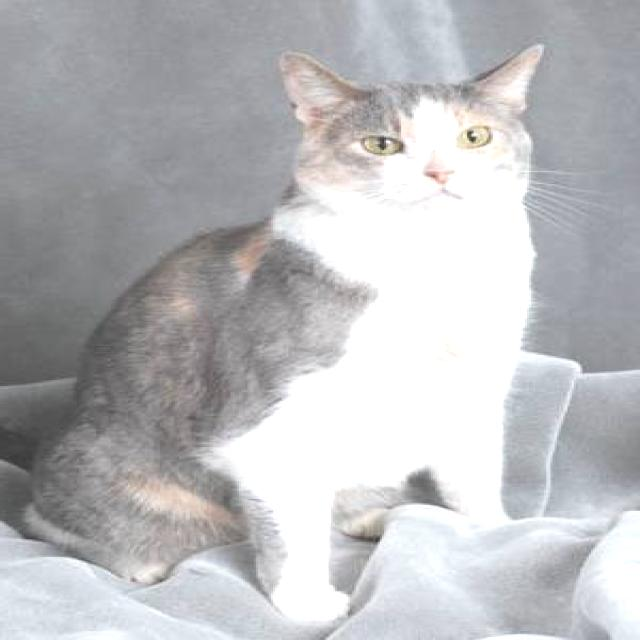Kucing: (18, 22, 640, 620)
